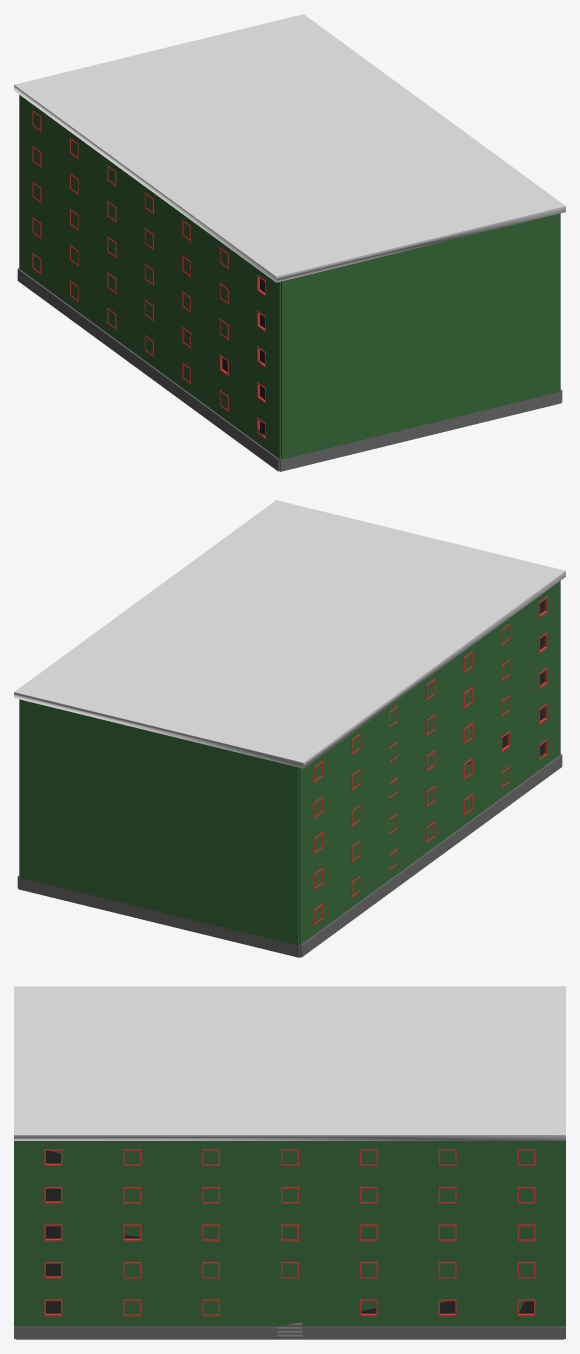
3 renders of one model, top to bottom at view 1: azimuth 30°, elevation 25°; view 2: azimuth 150°, elevation 25°; view 3: azimuth 270°, elevation 25°, orthographic. The views are drawn at different scales.
Visible parts, largest first — view 1: BR40_F04_02; view 2: BR40_F04_02; view 3: BR40_F04_02.
Boxes of the visible parts, box(x1,y1,x2,y2) form: BR40_F04_02: box(14, 14, 565, 471); BR40_F04_02: box(14, 500, 565, 957); BR40_F04_02: box(14, 986, 565, 1339).
Size of the model in its own units: 2550 by 1650 by 4000.
